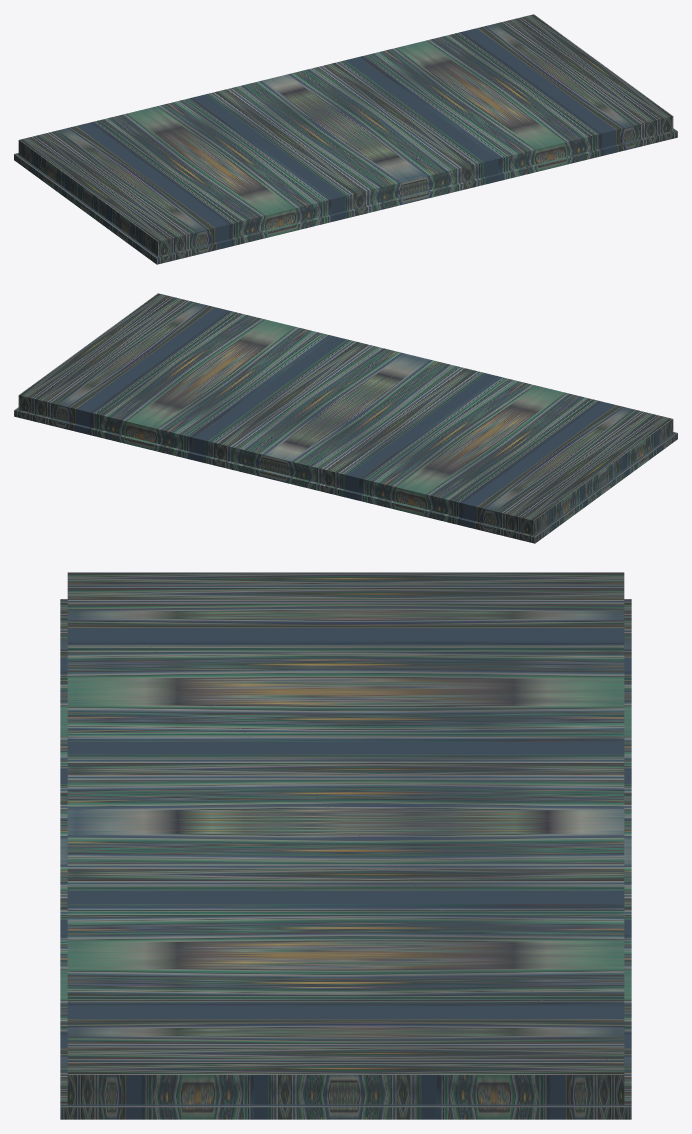
The model's file is 屋顶枢轴.obj.
3 renders of one model, top to bottom at view 1: azimuth 30°, elevation 25°; view 2: azimuth 150°, elevation 25°; view 3: azimuth 270°, elevation 25°, orthographic. The views are drawn at different scales.
Parts seen in each view (by area): view 1: Obj3d66_17342430_19_701; view 2: Obj3d66_17342430_19_701; view 3: Obj3d66_17342430_19_701.
Boxes of the visible parts, bbox=[...] form: Obj3d66_17342430_19_701: bbox=[14, 14, 677, 264]; Obj3d66_17342430_19_701: bbox=[14, 293, 677, 543]; Obj3d66_17342430_19_701: bbox=[60, 572, 631, 1119].
Size of the model in its own units: 2116 by 80.88 by 1005.
1 material, 1 textured.
